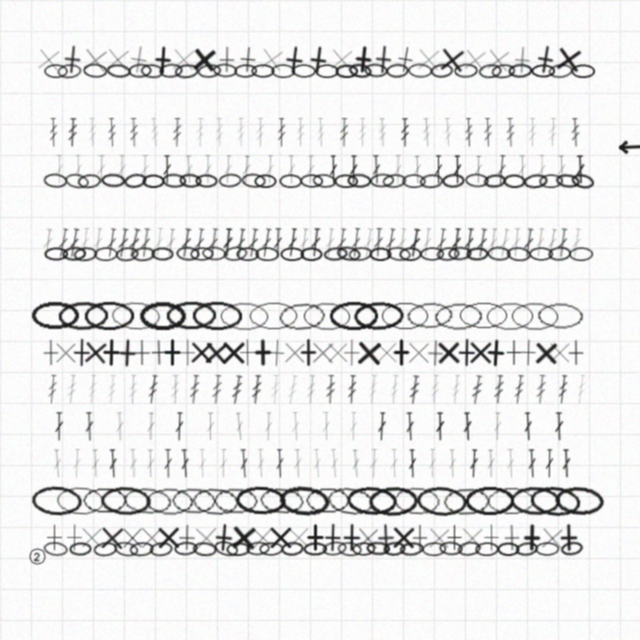chain: (324, 483, 376, 518), (529, 484, 582, 518), (278, 484, 330, 517), (121, 485, 173, 517), (346, 485, 398, 517), (416, 485, 468, 517), (276, 300, 327, 332), (31, 485, 83, 516), (190, 485, 240, 517), (257, 485, 307, 517), (554, 485, 604, 517), (110, 300, 161, 331), (55, 485, 106, 516), (235, 485, 286, 516), (353, 301, 405, 331), (405, 300, 455, 331), (392, 485, 442, 516), (219, 301, 270, 331), (100, 486, 151, 516), (58, 301, 108, 331), (302, 301, 352, 331), (433, 301, 483, 331), (510, 301, 560, 331), (144, 486, 194, 516), (368, 486, 418, 516), (441, 486, 491, 516), (510, 486, 560, 516), (84, 301, 135, 330), (248, 301, 299, 330), (458, 301, 509, 330), (485, 301, 534, 331), (536, 301, 585, 331), (166, 301, 216, 330), (192, 301, 242, 330), (329, 301, 379, 330), (380, 301, 430, 330), (465, 486, 515, 515), (486, 486, 536, 515), (170, 486, 218, 516), (212, 486, 260, 516), (31, 301, 80, 330), (139, 301, 187, 330), (81, 486, 129, 515), (304, 486, 352, 515), (213, 539, 239, 558), (64, 172, 90, 190), (113, 540, 139, 558), (570, 172, 595, 190), (123, 172, 148, 189), (223, 245, 248, 262), (336, 245, 361, 262), (322, 540, 347, 557), (348, 62, 372, 79), (457, 540, 481, 557), (560, 540, 584, 557), (57, 63, 82, 79), (106, 63, 131, 79), (174, 63, 199, 79), (197, 63, 222, 79), (491, 63, 516, 79), (548, 63, 573, 79), (77, 173, 102, 189), (312, 173, 337, 189), (382, 173, 407, 189), (419, 173, 444, 189), (523, 173, 548, 189), (555, 173, 580, 189), (73, 246, 98, 262), (131, 246, 156, 262), (323, 246, 348, 262), (348, 246, 373, 262), (386, 246, 411, 262), (506, 246, 531, 262), (43, 541, 68, 557), (93, 541, 118, 557), (129, 541, 154, 557), (192, 541, 217, 557), (337, 541, 362, 557), (399, 541, 424, 557), (140, 63, 164, 79), (478, 63, 502, 79), (483, 173, 507, 189), (115, 246, 139, 262), (436, 246, 460, 262), (149, 541, 173, 557), (515, 541, 539, 557), (43, 173, 68, 188), (241, 173, 266, 188), (83, 63, 107, 78), (128, 63, 152, 78), (159, 63, 183, 78), (213, 63, 237, 78), (364, 63, 388, 78), (408, 63, 432, 78), (430, 63, 454, 78), (454, 63, 478, 78), (508, 63, 532, 78), (101, 173, 125, 188), (162, 173, 186, 188), (218, 173, 242, 188), (347, 173, 371, 188), (370, 173, 394, 188), (465, 173, 489, 188), (62, 246, 86, 261), (176, 246, 200, 261), (202, 246, 226, 261), (448, 246, 472, 261), (487, 246, 511, 261), (174, 541, 198, 556), (246, 541, 270, 556), (366, 541, 390, 556), (439, 541, 463, 556), (386, 63, 409, 78), (179, 173, 202, 188), (442, 173, 465, 188), (548, 246, 571, 261), (281, 541, 304, 556), (383, 541, 406, 556), (44, 64, 68, 78), (251, 64, 275, 78), (271, 64, 295, 78), (292, 64, 316, 78), (315, 64, 339, 78), (531, 64, 555, 78), (571, 64, 595, 78), (334, 174, 358, 188), (402, 174, 426, 188), (539, 174, 563, 188), (44, 247, 68, 261), (94, 247, 118, 261), (190, 247, 214, 261), (255, 247, 279, 261), (280, 247, 304, 261), (420, 247, 444, 261), (529, 247, 553, 261), (569, 247, 593, 261), (226, 542, 250, 556), (259, 542, 283, 556), (303, 542, 327, 556), (422, 542, 446, 556), (475, 542, 499, 556), (535, 542, 559, 556), (234, 64, 257, 78), (335, 64, 358, 78), (142, 174, 165, 188), (195, 174, 218, 188), (254, 174, 277, 188), (279, 174, 302, 188), (300, 174, 323, 188), (503, 174, 526, 188), (151, 247, 174, 261), (236, 247, 259, 261), (300, 247, 323, 261), (369, 247, 392, 261), (399, 247, 422, 261), (466, 247, 489, 261), (69, 542, 92, 556), (352, 542, 375, 556), (497, 542, 520, 556)
double: (126, 228, 142, 258), (56, 228, 70, 258), (67, 228, 81, 258), (116, 228, 130, 258), (179, 228, 193, 258), (246, 228, 260, 258), (361, 228, 375, 258), (408, 228, 422, 258), (475, 228, 489, 258), (545, 228, 559, 258), (41, 228, 54, 258), (105, 228, 118, 258), (139, 228, 152, 258), (193, 228, 206, 258), (207, 228, 220, 258), (234, 228, 247, 258), (260, 228, 273, 258), (335, 228, 348, 258), (384, 228, 397, 258), (395, 228, 408, 258), (435, 228, 448, 258), (498, 228, 511, 258), (522, 228, 535, 258), (556, 228, 569, 258), (570, 228, 583, 258), (286, 228, 299, 257), (309, 228, 322, 257), (450, 228, 463, 257), (79, 228, 91, 257), (92, 228, 104, 257), (153, 228, 165, 257), (165, 228, 177, 257), (222, 228, 234, 257), (298, 228, 310, 257), (324, 228, 336, 257), (350, 228, 362, 257), (421, 228, 433, 257), (463, 228, 475, 257), (487, 228, 499, 257), (510, 228, 522, 257), (534, 228, 546, 257), (350, 449, 362, 478), (241, 155, 252, 184), (371, 155, 382, 184), (496, 155, 507, 184), (556, 155, 567, 184), (575, 155, 586, 184), (373, 228, 384, 257), (84, 412, 95, 441), (234, 412, 245, 441), (290, 412, 301, 441), (462, 412, 473, 441), (52, 449, 63, 478), (128, 449, 139, 478), (292, 449, 303, 478), (312, 449, 323, 478), (329, 449, 340, 478), (368, 449, 379, 478), (505, 449, 516, 478), (561, 449, 572, 478), (96, 155, 106, 184), (117, 155, 127, 184), (140, 155, 150, 184), (162, 155, 172, 184), (184, 155, 194, 184), (203, 155, 213, 184), (223, 155, 233, 184), (265, 155, 275, 184), (393, 155, 403, 184), (517, 155, 527, 184), (537, 155, 547, 184), (273, 228, 283, 257), (54, 412, 64, 441), (115, 412, 125, 441), (146, 412, 156, 441), (321, 412, 331, 441), (377, 412, 387, 441), (405, 412, 415, 441), (435, 412, 445, 441), (523, 412, 533, 441), (554, 412, 564, 441), (72, 449, 82, 478), (108, 449, 118, 478), (163, 449, 173, 478), (180, 449, 190, 478), (239, 449, 249, 478), (256, 449, 266, 478), (275, 449, 285, 478), (389, 449, 399, 478), (469, 449, 479, 478), (486, 449, 496, 478), (527, 449, 537, 478), (55, 155, 64, 184), (74, 155, 83, 184), (287, 155, 296, 184), (306, 155, 315, 184), (329, 155, 338, 184), (349, 155, 358, 184), (413, 155, 422, 184), (434, 155, 443, 184), (453, 155, 462, 184), (474, 155, 483, 184), (175, 412, 184, 441), (206, 412, 215, 441), (264, 412, 273, 441), (349, 412, 358, 441), (493, 412, 502, 441), (91, 449, 100, 478), (146, 449, 155, 478), (198, 449, 207, 478), (219, 449, 228, 478), (408, 449, 417, 478), (428, 449, 437, 478), (448, 449, 457, 478), (545, 449, 554, 478)
noise: (27, 546, 47, 566), (616, 140, 640, 154)
single: (122, 43, 155, 76), (255, 43, 288, 76), (389, 43, 422, 76), (529, 43, 562, 76), (552, 43, 585, 76), (79, 44, 111, 76), (278, 44, 310, 76), (302, 44, 334, 76), (436, 44, 468, 76), (459, 44, 491, 76), (482, 44, 514, 76), (33, 44, 64, 75), (57, 44, 88, 75), (102, 44, 133, 75), (168, 44, 199, 75), (326, 44, 357, 75), (348, 44, 379, 75), (368, 44, 399, 75), (413, 44, 444, 75), (80, 337, 111, 368), (208, 522, 239, 553), (228, 522, 259, 553), (189, 44, 219, 75), (233, 44, 263, 75), (148, 45, 178, 75), (507, 45, 537, 75), (112, 338, 142, 368), (201, 338, 231, 368), (262, 338, 292, 368), (354, 338, 384, 368), (420, 338, 450, 368), (481, 338, 511, 368), (531, 338, 561, 368), (97, 523, 127, 553), (191, 523, 221, 553), (371, 523, 401, 553), (424, 523, 454, 553), (457, 523, 487, 553), (537, 523, 567, 553), (353, 523, 382, 553), (212, 45, 241, 74), (36, 338, 65, 367), (51, 338, 80, 367), (67, 338, 96, 367), (97, 338, 126, 367), (127, 338, 156, 367), (158, 338, 187, 367), (173, 338, 202, 367), (187, 338, 216, 367), (219, 338, 248, 367), (233, 338, 262, 367), (280, 338, 309, 367), (294, 338, 323, 367), (308, 338, 337, 367), (323, 338, 352, 367), (337, 338, 366, 367), (372, 338, 401, 367), (387, 338, 416, 367), (404, 338, 433, 367), (434, 338, 463, 367), (452, 338, 481, 367), (466, 338, 495, 367), (514, 338, 543, 367), (545, 338, 574, 367), (561, 338, 590, 367), (40, 523, 69, 552), (60, 523, 89, 552), (77, 523, 106, 552), (137, 523, 166, 552), (154, 523, 183, 552), (172, 523, 201, 552), (248, 523, 277, 552), (266, 523, 295, 552), (284, 523, 313, 552), (301, 523, 330, 552), (318, 523, 347, 552), (337, 523, 366, 552), (389, 523, 418, 552), (405, 523, 434, 552), (440, 523, 469, 552), (477, 523, 506, 552), (497, 523, 526, 552), (517, 523, 546, 552), (554, 523, 583, 552), (145, 338, 173, 367), (249, 338, 277, 367), (500, 338, 528, 367), (118, 523, 146, 552)
treble: (230, 375, 244, 405), (470, 375, 484, 405), (286, 375, 299, 405), (408, 375, 421, 405), (65, 375, 78, 404), (188, 375, 201, 404), (250, 375, 263, 404), (149, 118, 161, 147), (106, 375, 118, 404), (147, 375, 159, 404), (211, 375, 223, 404), (269, 375, 281, 404), (305, 375, 317, 404), (367, 375, 379, 404), (429, 375, 441, 404), (450, 375, 462, 404), (493, 375, 505, 404), (513, 375, 525, 404), (535, 375, 547, 404), (557, 375, 569, 404), (575, 375, 587, 404), (67, 118, 78, 147), (377, 118, 388, 147), (421, 118, 432, 147), (505, 118, 516, 147), (547, 118, 558, 147), (570, 118, 581, 147), (47, 375, 58, 404), (87, 375, 98, 404), (325, 375, 336, 404), (389, 375, 400, 404), (107, 118, 117, 147), (129, 118, 139, 147), (172, 118, 182, 147), (195, 118, 205, 147), (236, 118, 246, 147), (255, 118, 265, 147), (316, 118, 326, 147), (339, 118, 349, 147), (400, 118, 410, 147), (443, 118, 453, 147), (464, 118, 474, 147), (483, 118, 493, 147), (128, 375, 138, 404), (170, 375, 180, 404), (347, 375, 357, 404), (49, 118, 58, 147), (88, 118, 97, 147), (215, 118, 224, 147), (277, 118, 286, 147), (296, 118, 305, 147), (358, 118, 367, 147), (528, 118, 537, 147)
